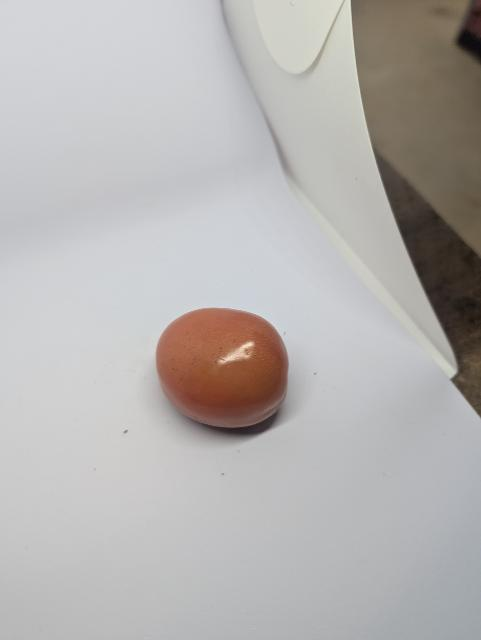red: (145, 299, 305, 439)
